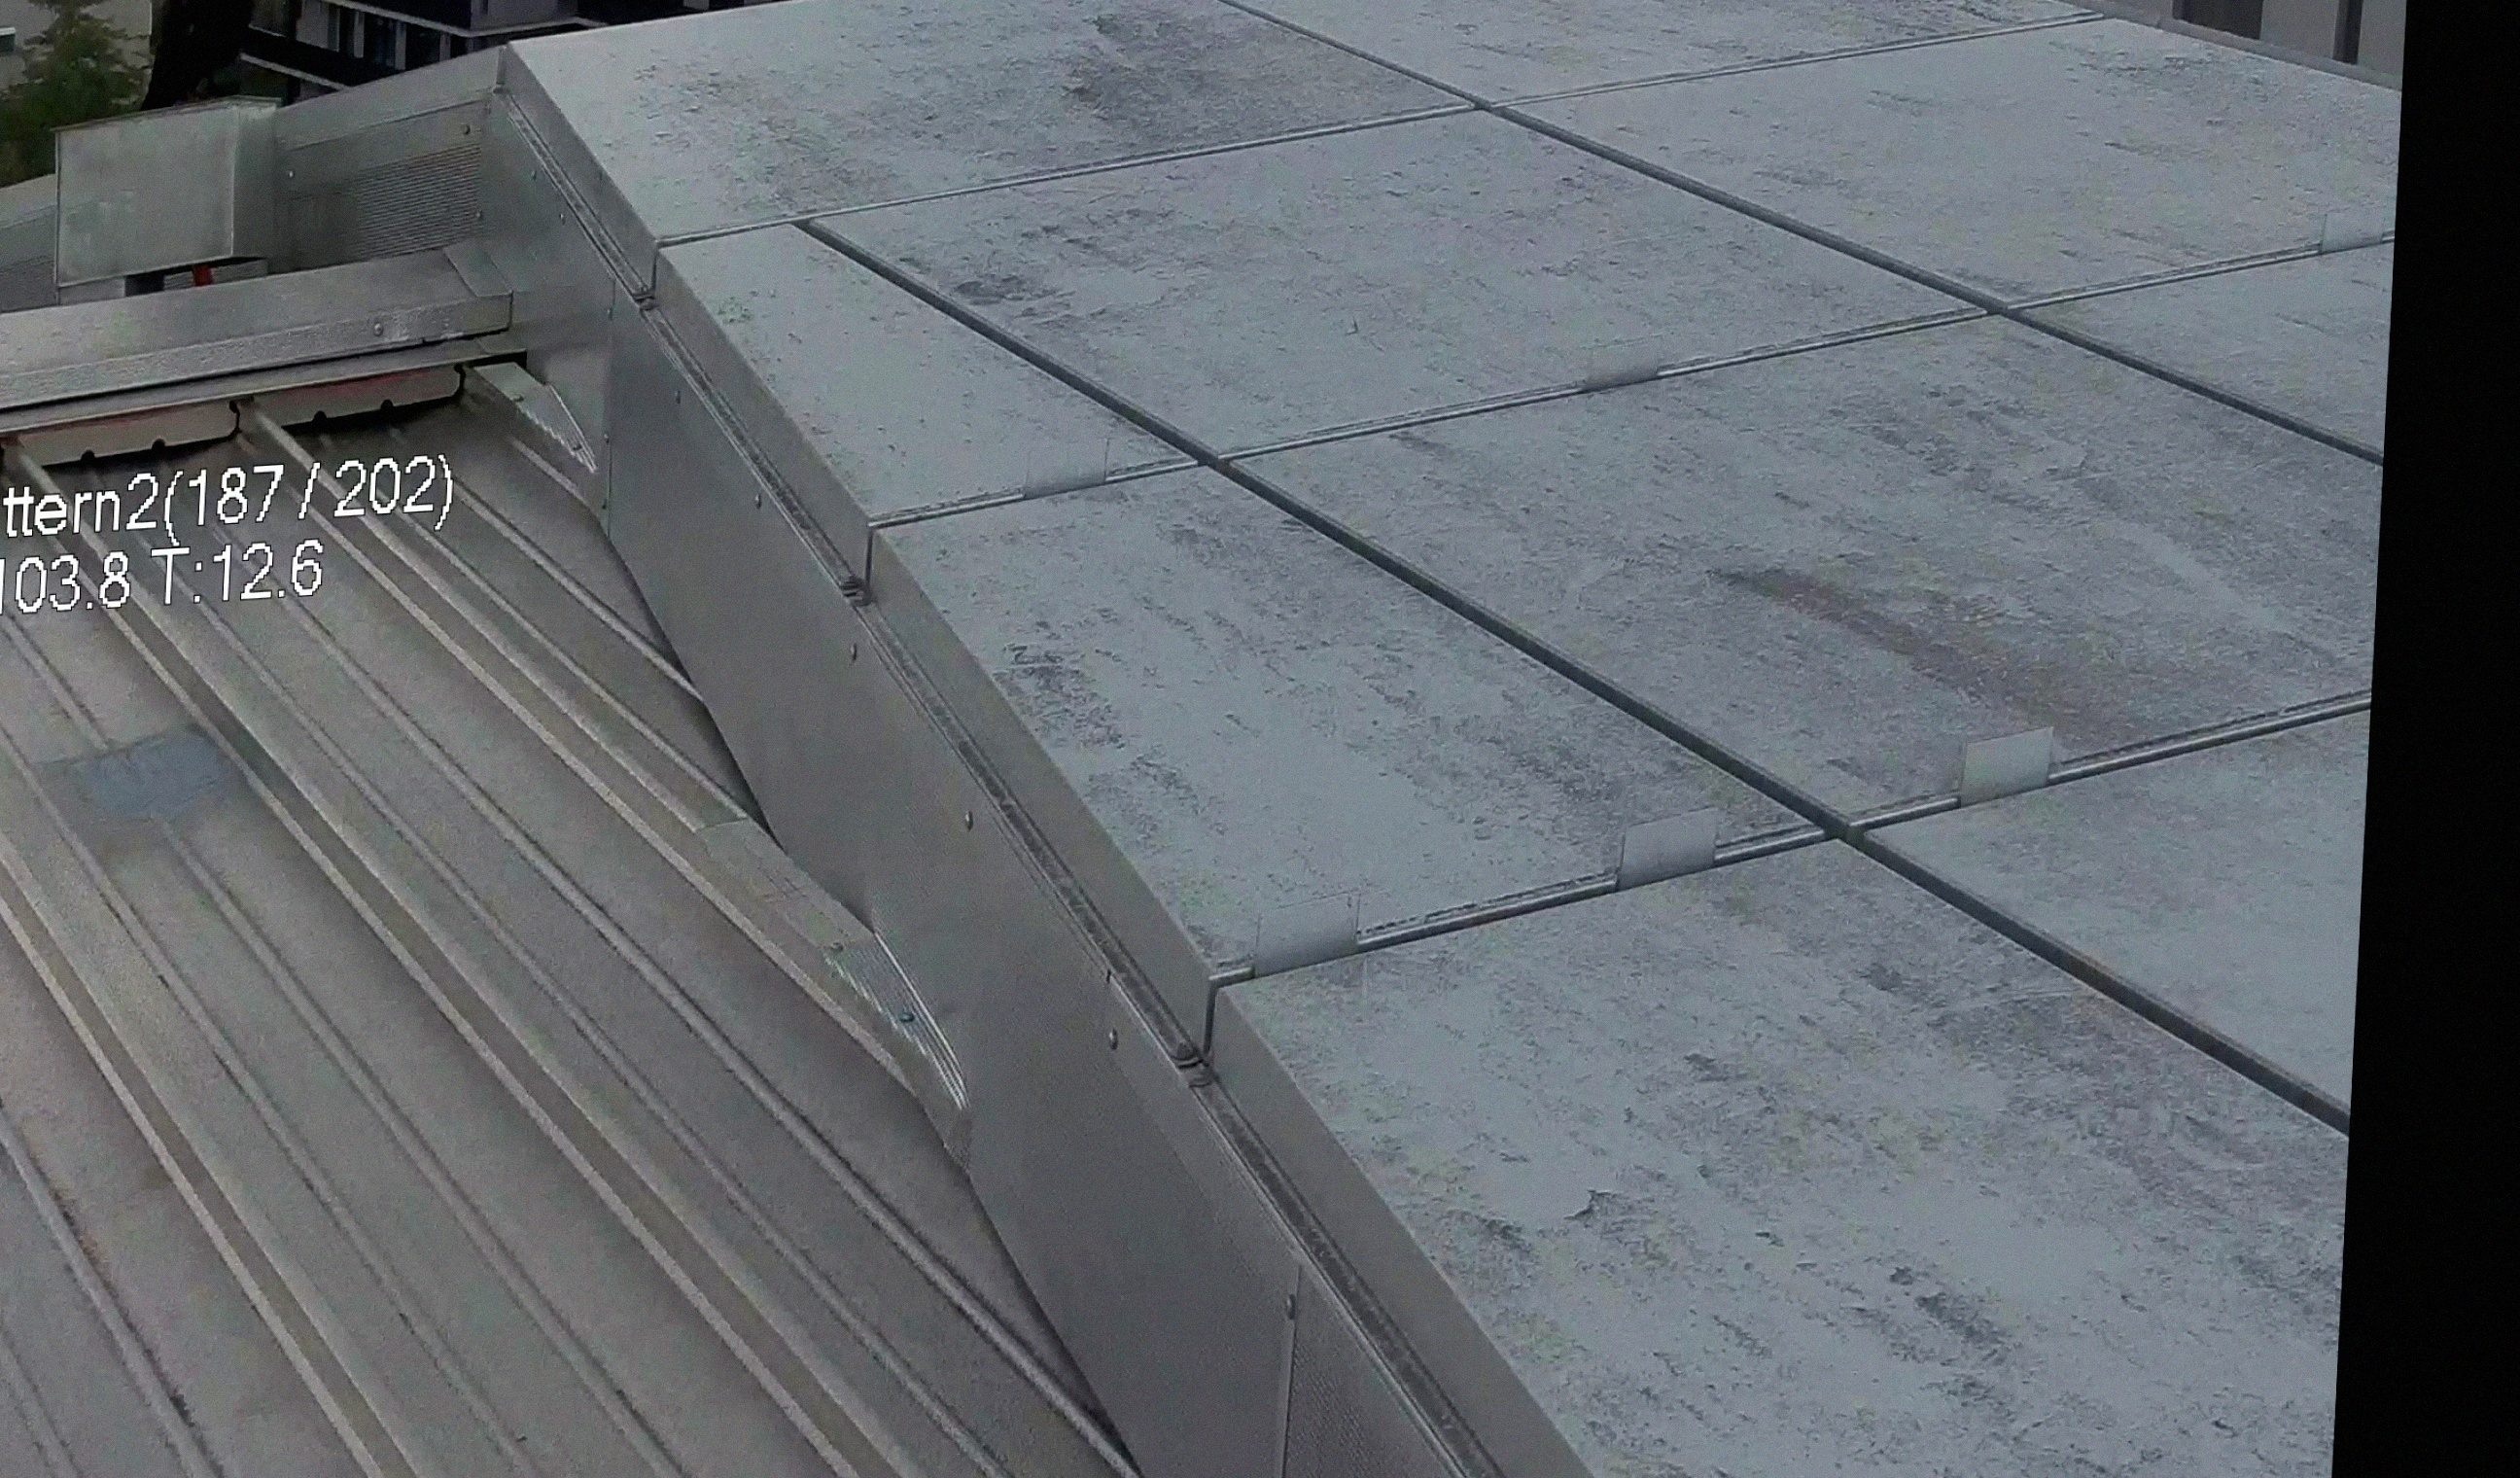Other: (125, 0, 255, 106)
